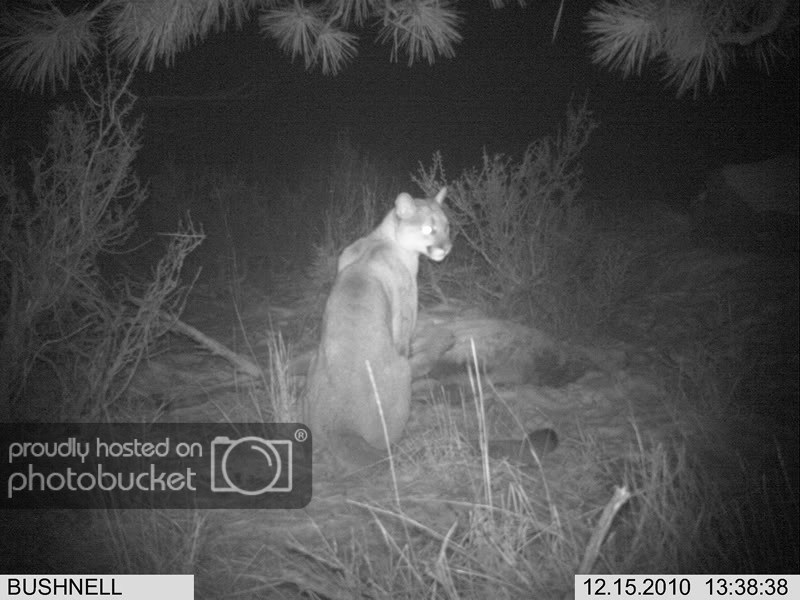mountain lion: (298, 173, 467, 473)
